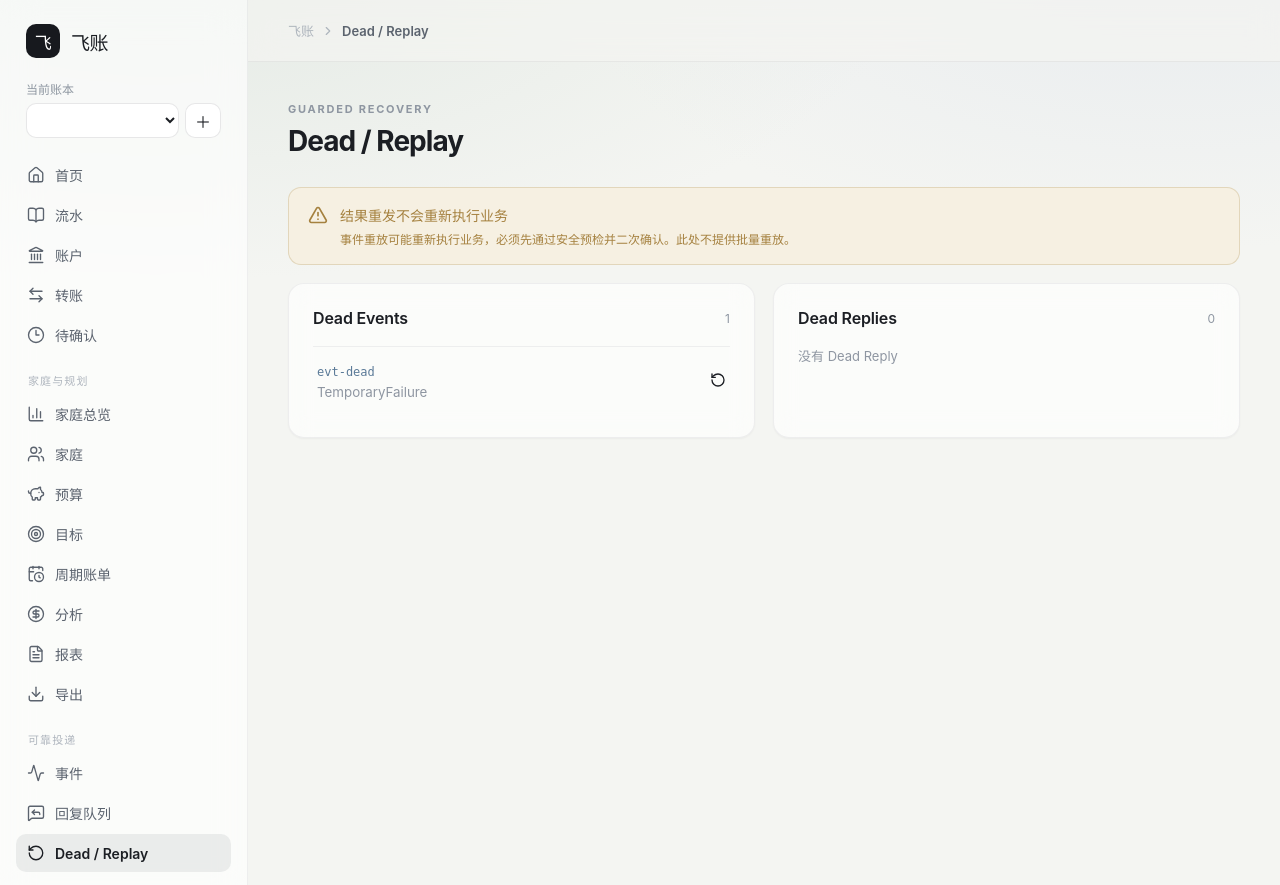
Test case: dashboard routing and protection › dry-runs event replay before explicit execution
This screenshot has width=1280, height=885.
Step 1. Click the text "evt-dead" → coordinates (346, 372), box [317,365,375,379]
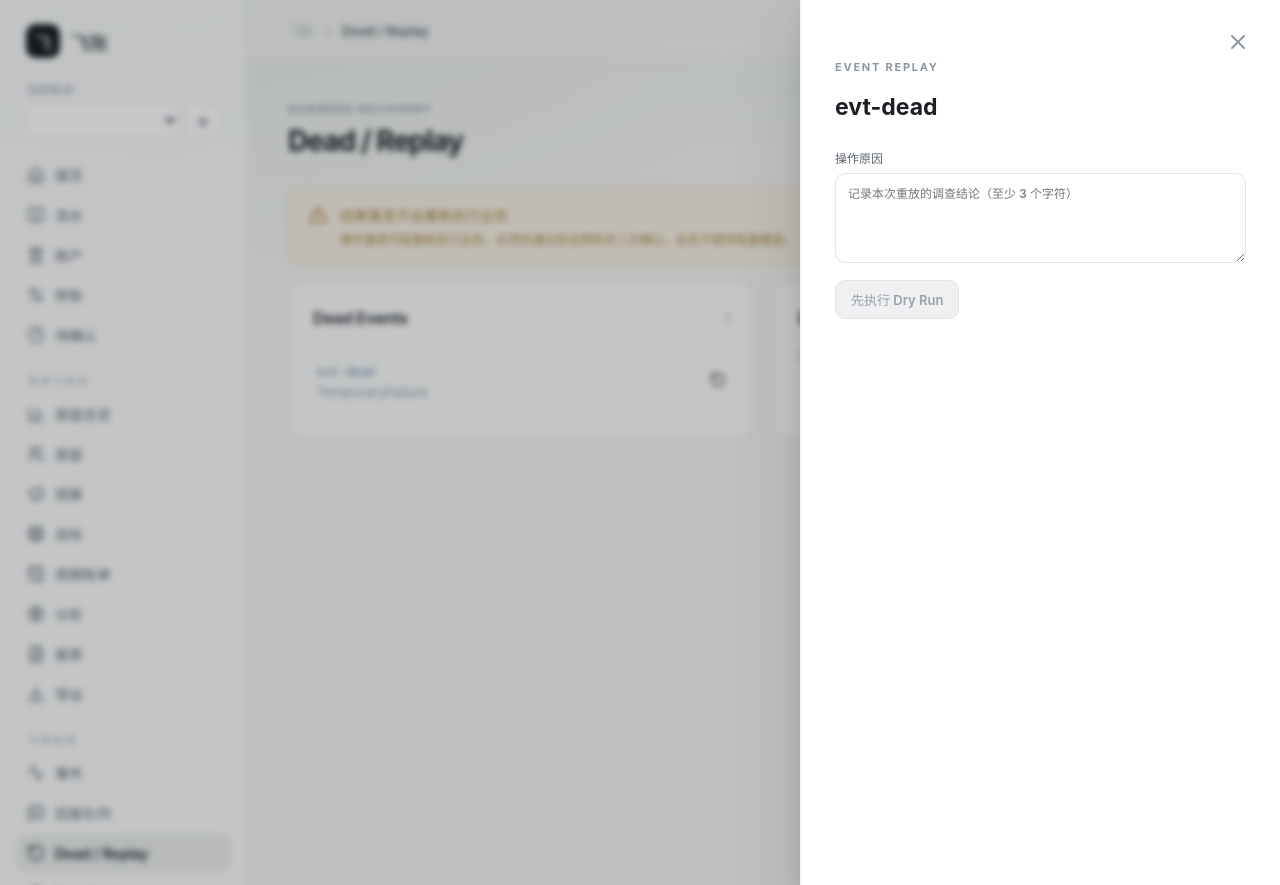
Step 2. Type "temporary failure" into the text box with placeholder "记录本次重放的调查结论（至少 3 个字符）" → coordinates (1040, 218), box [835,173,1246,263]
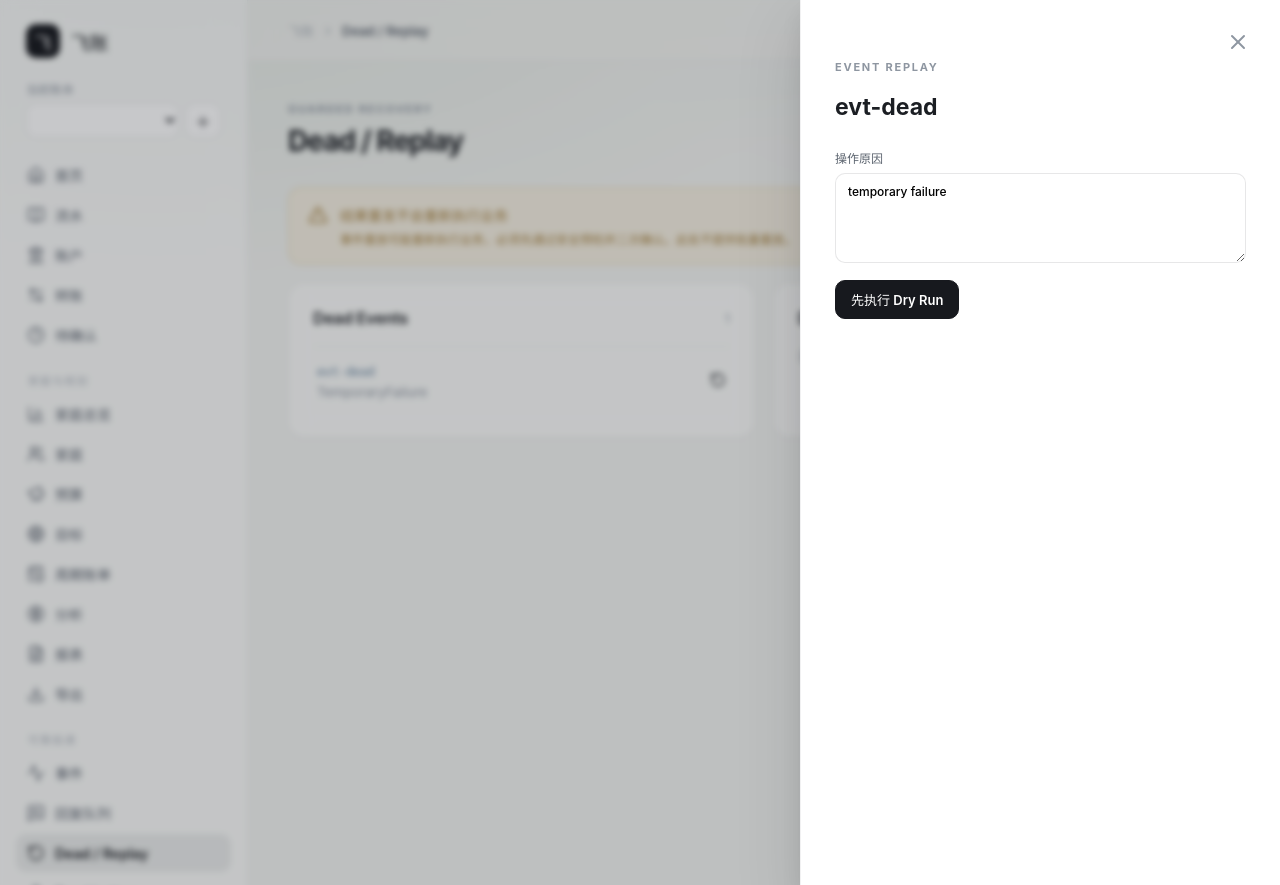
Step 3. Click the button "先执行 Dry Run" → coordinates (897, 300), box [835,280,959,319]
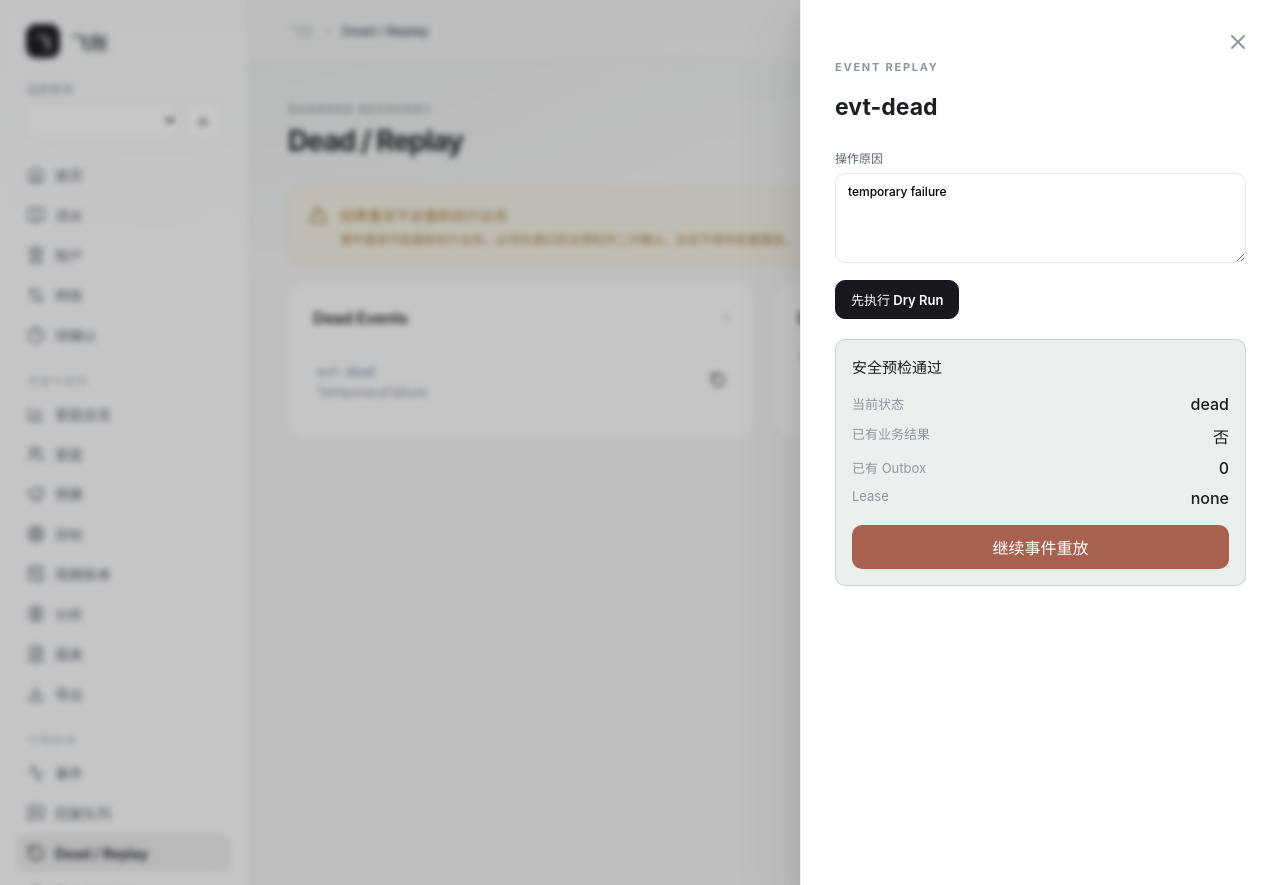
expect the heading "安全预检通过" is shown: met, box [852,358,942,377]
Step 4. Click the button "继续事件重放" → coordinates (1040, 547), box [852,525,1229,569]
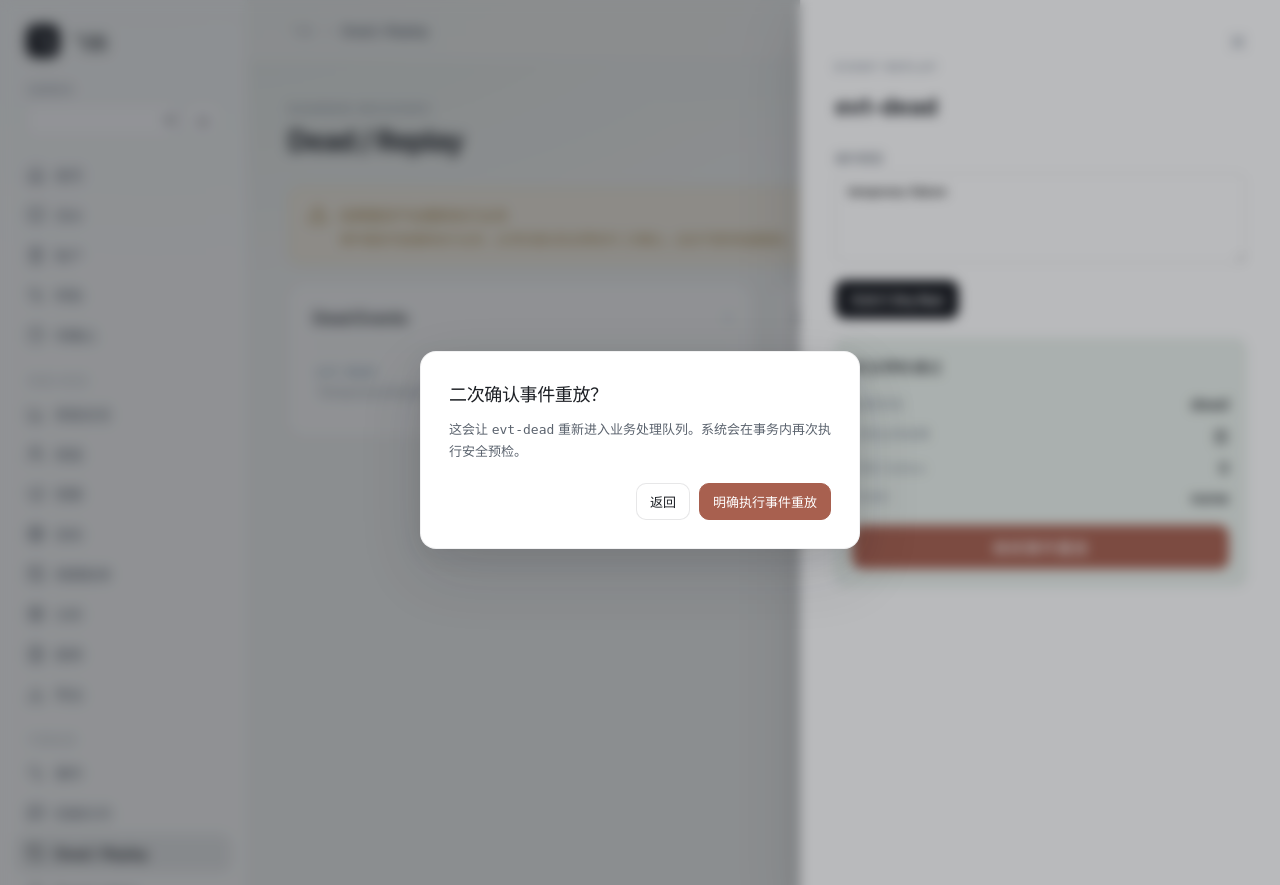
Step 5. Click the button "明确执行事件重放" → coordinates (765, 502), box [699,483,831,520]
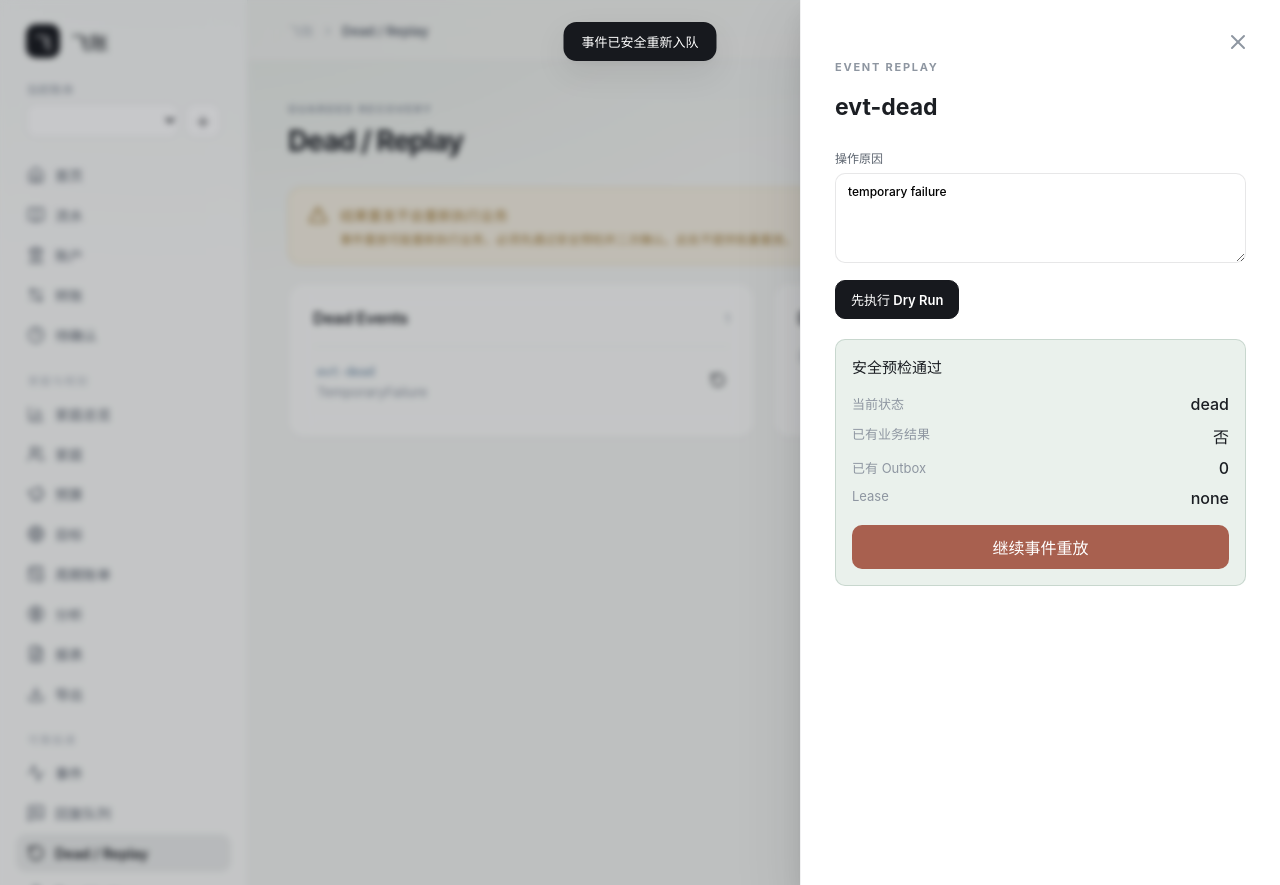
expect the text "evt-dead" is shown: met, box [317,365,375,379]
expect the text "事件已安全重新入队" is shown: met, box [564,22,716,61]
